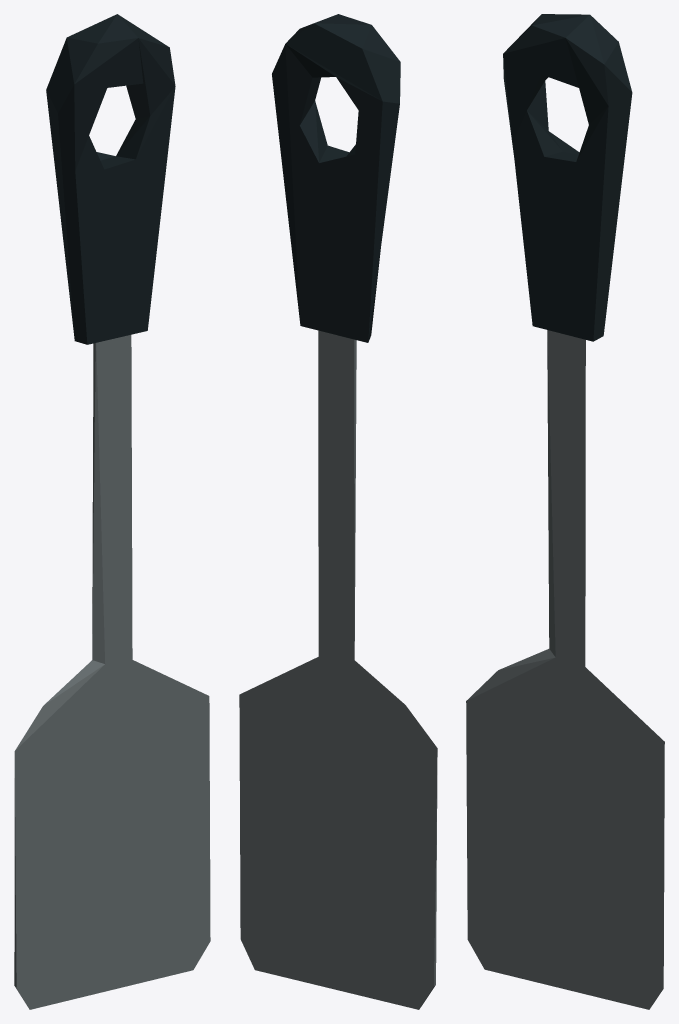
File: Spatula01.fbx
The picture shows the model from 3 angles, left to right: view 1: azimuth 30°, elevation 25°; view 2: azimuth 150°, elevation 25°; view 3: azimuth 330°, elevation 25°; orthographic projection.
Parts seen in each view (by area): view 1: Spatula01LowPoly; view 2: Spatula01LowPoly; view 3: Spatula01LowPoly.
Boxes of the visible parts, <box> form: Spatula01LowPoly: <box>14,14,210,1009</box>; Spatula01LowPoly: <box>239,14,437,1009</box>; Spatula01LowPoly: <box>466,14,664,1009</box>.
Size of the model in its own units: 5.93 by 27.9 by 1.39.
